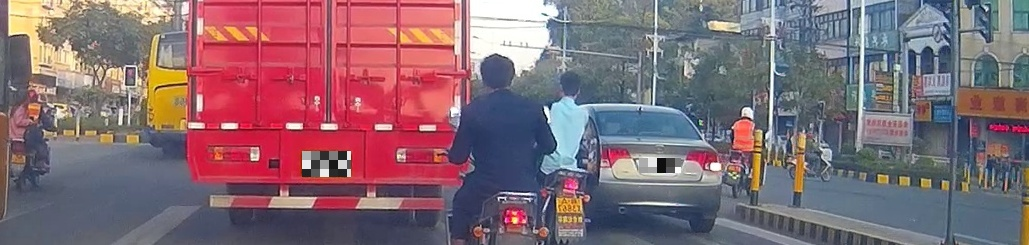L_light: (600, 147, 632, 168)
R_light: (685, 150, 722, 171)
T_light: (632, 109, 651, 114)
day-right: (587, 103, 722, 233)
plate_1: (302, 151, 351, 177)
plate_2: (639, 158, 681, 173)
